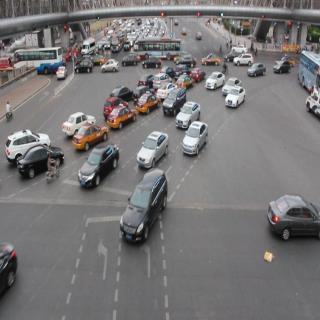BigCar: (11, 42, 64, 69), (136, 33, 182, 61), (300, 49, 320, 91), (79, 37, 102, 60)
Car: (122, 174, 170, 246), (267, 191, 320, 249), (77, 143, 120, 194), (17, 145, 69, 187), (0, 235, 26, 304), (2, 126, 49, 160), (132, 131, 173, 168), (183, 116, 214, 162), (58, 102, 92, 136), (111, 100, 135, 138), (74, 124, 105, 152), (109, 84, 140, 112), (173, 92, 199, 124), (132, 86, 152, 119), (100, 91, 123, 119), (203, 64, 223, 96), (273, 54, 297, 78), (165, 84, 182, 113), (228, 83, 244, 112), (121, 49, 143, 70), (177, 70, 194, 96), (244, 58, 266, 78), (74, 58, 95, 78), (158, 62, 177, 84), (155, 76, 172, 100), (177, 50, 197, 70), (223, 74, 239, 98), (102, 58, 122, 77), (56, 61, 70, 87), (233, 51, 254, 68), (189, 64, 205, 86), (136, 72, 153, 90), (204, 52, 222, 68)
